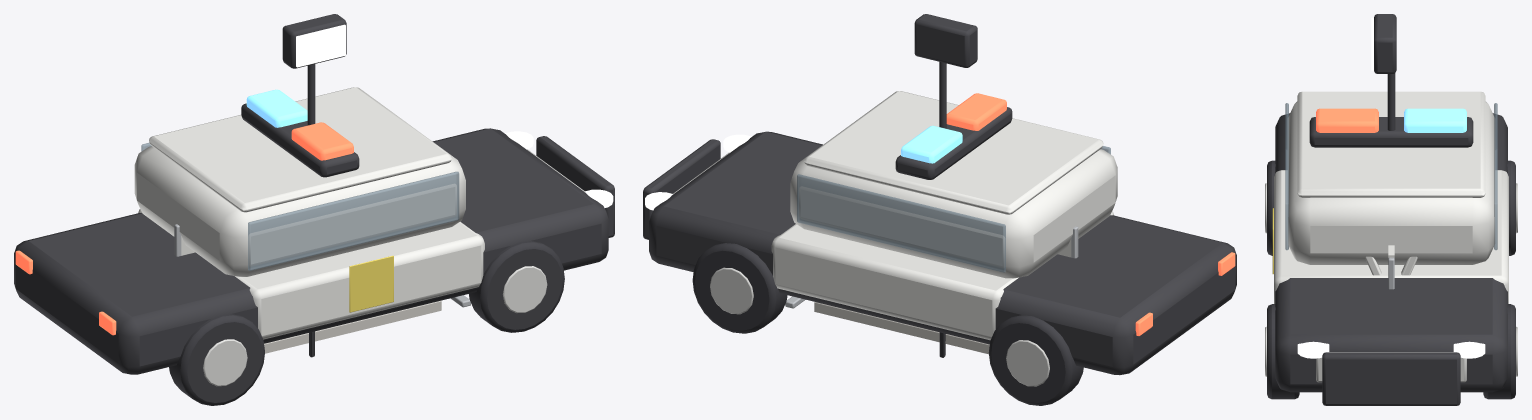
File: roadblock_kit.glb
3 renders of one model, left to right at view 1: azimuth 30°, elevation 25°; view 2: azimuth 150°, elevation 25°; view 3: azimuth 270°, elevation 25°, orthographic.
Parts seen in each view (by area): view 1: car_body_lo, car_cabin, car_roof, car_doors, car_side_win-1, car_tyre-1-13, car_tyre-113, car_lightbar, car_badge, car_pushbar, jersey, car_hub-1-13 (+6 smaller); view 2: car_body_lo, car_cabin, car_roof, car_doors, car_side_win1, car_tyre1-13, car_tyre113, lp_head, car_lightbar, car_pushbar, jersey, car_hub1-13 (+4 smaller); view 3: car_body_lo, car_cabin, car_roof, car_pushbar, car_doors, car_lightbar, car_light_blue, car_light_red, lp_head, car_tyre-113, car_tyre113, car_tyre1-13 (+7 smaller).
Part boxes in pixels (<box>): car_body_lo: <box>14,128,608,374</box>; car_cabin: <box>134,146,465,276</box>; car_roof: <box>149,87,451,212</box>; car_doors: <box>138,209,484,339</box>; car_side_win-1: <box>248,171,459,270</box>; car_tyre-1-13: <box>169,314,264,405</box>; car_tyre-113: <box>469,241,564,332</box>; car_lightbar: <box>241,103,359,177</box>; car_badge: <box>349,255,393,312</box>; car_pushbar: <box>536,136,614,237</box>; jersey: <box>264,300,441,353</box>; car_hub-1-13: <box>203,339,247,386</box>; car_body_lo: <box>649,131,1236,375</box>; car_cabin: <box>790,149,1117,278</box>; car_roof: <box>804,91,1103,214</box>; car_doors: <box>771,211,1114,340</box>; car_side_win1: <box>797,174,1005,272</box>; car_tyre1-13: <box>988,315,1083,405</box>; car_tyre113: <box>692,243,787,333</box>; lp_head: <box>914,14,977,67</box>; car_lightbar: <box>895,107,1012,179</box>; car_pushbar: <box>643,139,720,239</box>; jersey: <box>814,302,989,354</box>; car_hub1-13: <box>1006,340,1049,386</box>; car_body_lo: <box>1275,113,1507,392</box>; car_cabin: <box>1287,101,1495,264</box>; car_roof: <box>1297,91,1485,197</box>; car_pushbar: <box>1322,352,1460,405</box>; car_doors: <box>1274,170,1508,303</box>; car_lightbar: <box>1309,117,1473,147</box>; car_light_blue: <box>1404,108,1466,132</box>; car_light_red: <box>1316,108,1378,132</box>; lp_head: <box>1374,14,1396,73</box>; car_tyre-113: <box>1267,304,1299,399</box>; car_tyre113: <box>1483,304,1515,399</box>; car_tyre1-13: <box>1507,160,1515,255</box>.
Size of the model in its own units: 4.66 by 2.74 by 2.01.
